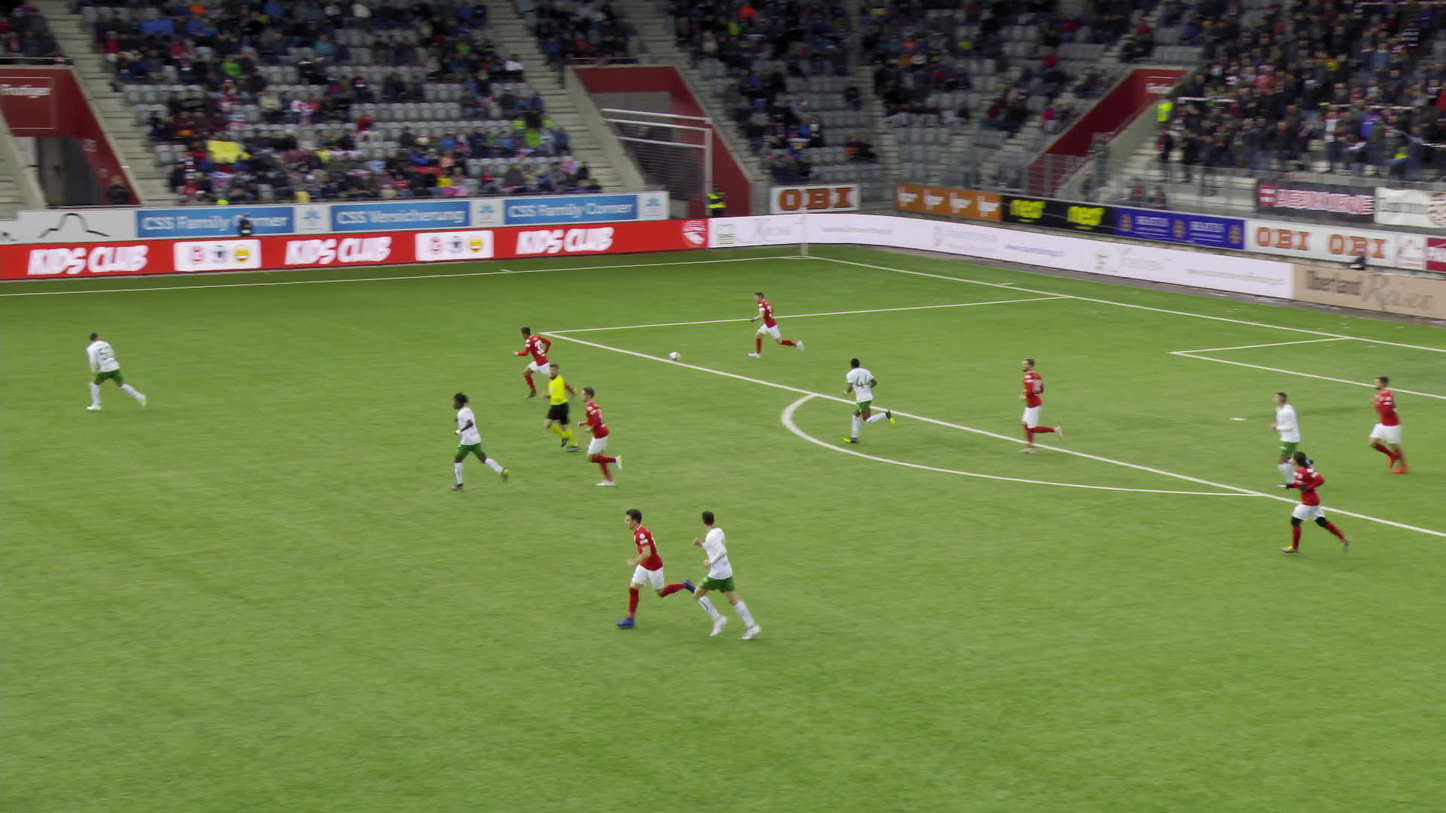ball: (667, 350, 682, 363)
player: (614, 507, 695, 630), (691, 510, 761, 639), (1279, 450, 1351, 553), (449, 391, 511, 491), (1361, 373, 1411, 473), (85, 332, 147, 411), (511, 325, 578, 397), (576, 385, 623, 486), (841, 357, 895, 443), (1017, 357, 1063, 454), (746, 291, 804, 359), (1270, 390, 1304, 486)
referee: (541, 364, 580, 452)
